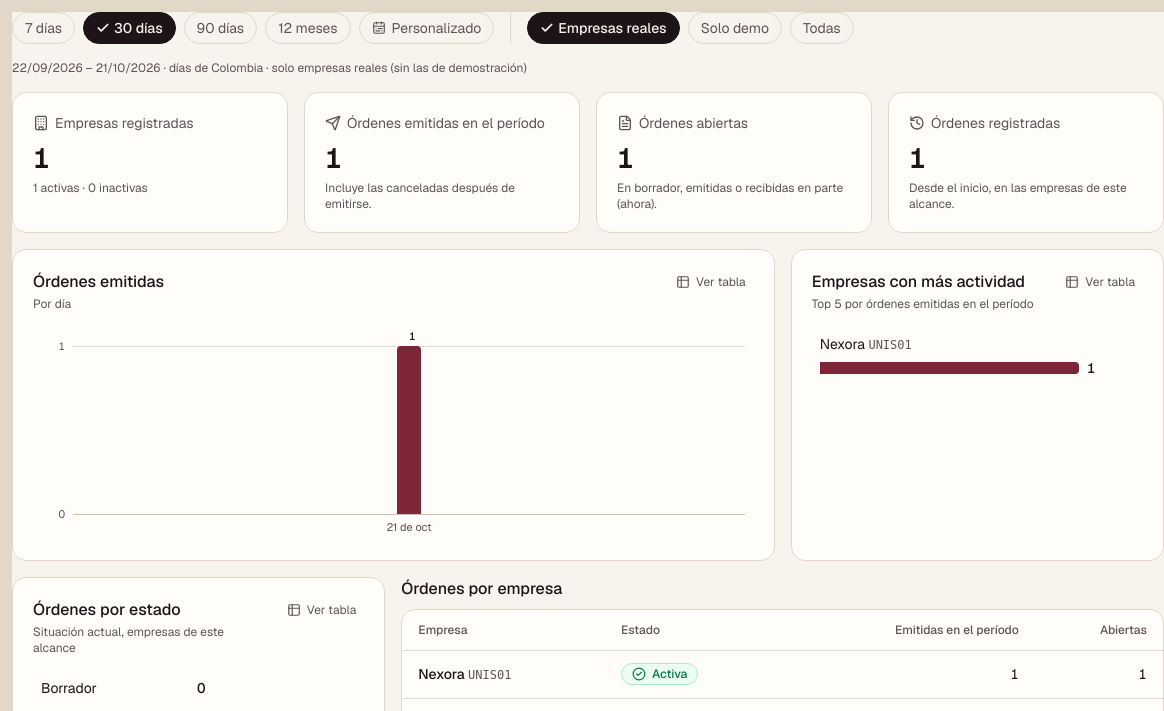
it: DashboardGlobal: empresas reales y de demostración › con «Todas» distingue la demo de la real en el ranking
Expected: the text "solo empresas reales" is shown, [272,60,527,76]
What coordinates should you click on to do the following:
click the button "Todas"
I would click on:
 (822, 28)
Its box is [790,12,854,44].
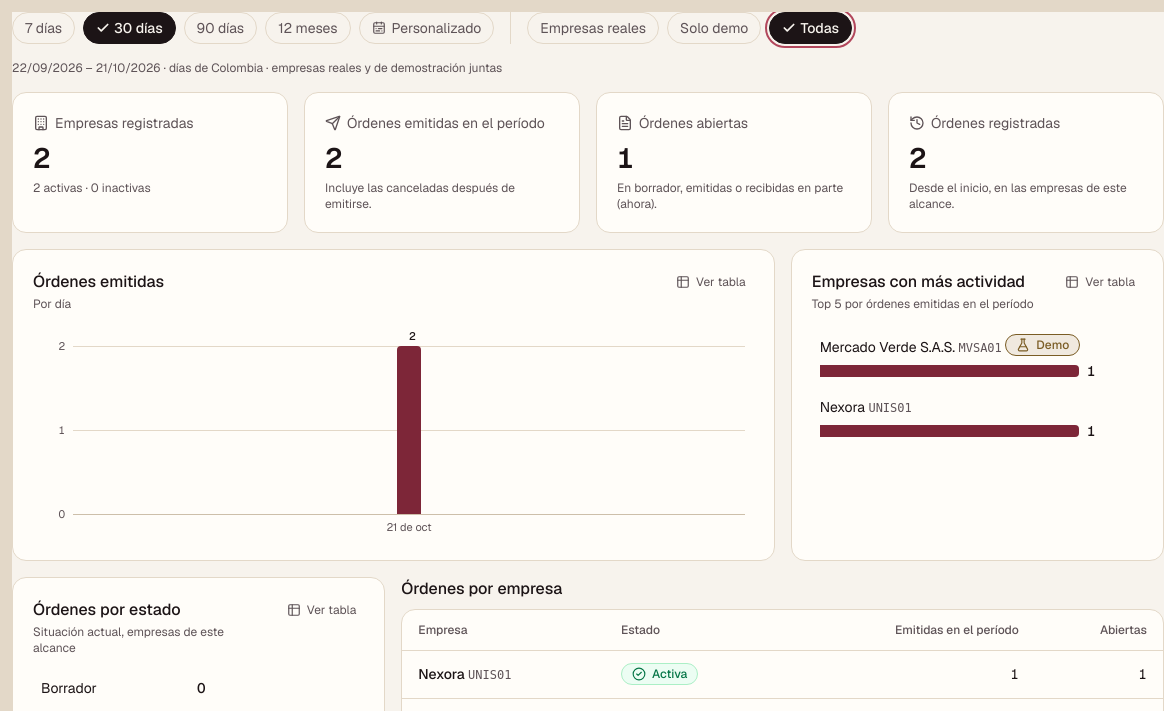
Expected: the text "empresas reales y de demostración juntas" is shown, [272,60,502,76]
